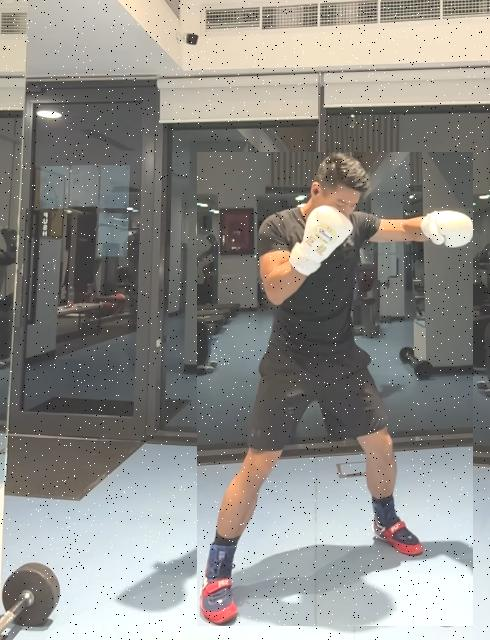punch: (197, 152, 473, 626)
